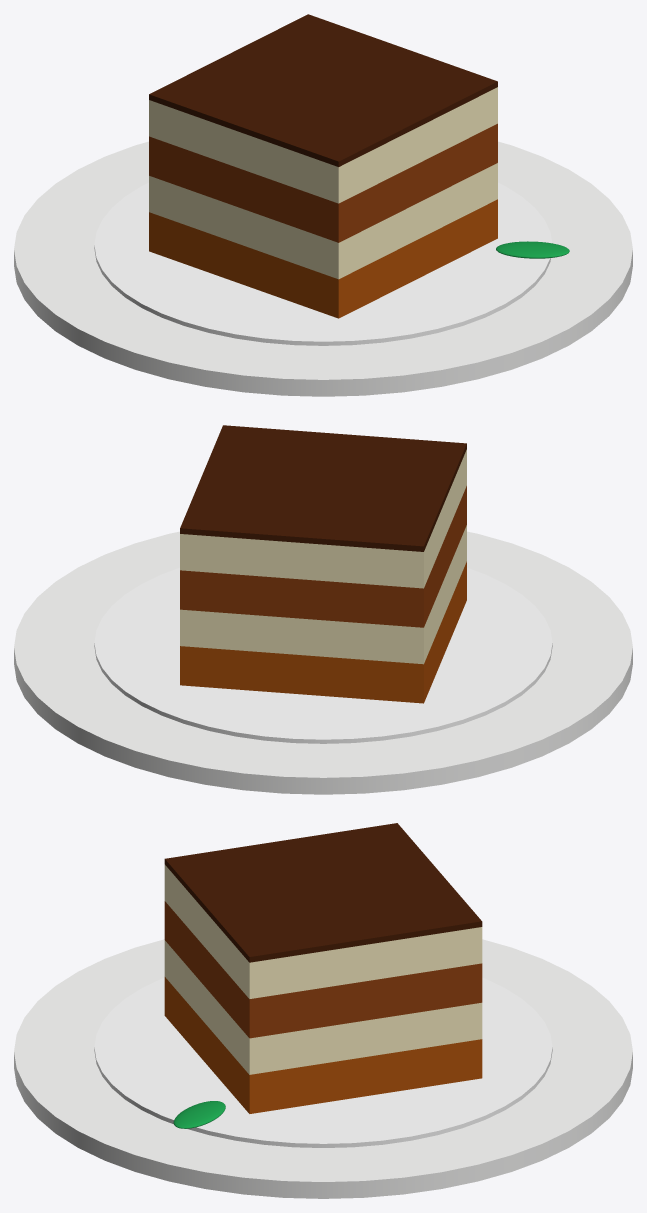
The model's file is tiramisu.glb.
3 renders of one model, top to bottom at view 1: azimuth 30°, elevation 25°; view 2: azimuth 150°, elevation 25°; view 3: azimuth 270°, elevation 25°, orthographic.
Bounding box in the file's own units: 0.2 × 0.0725 × 0.2.
